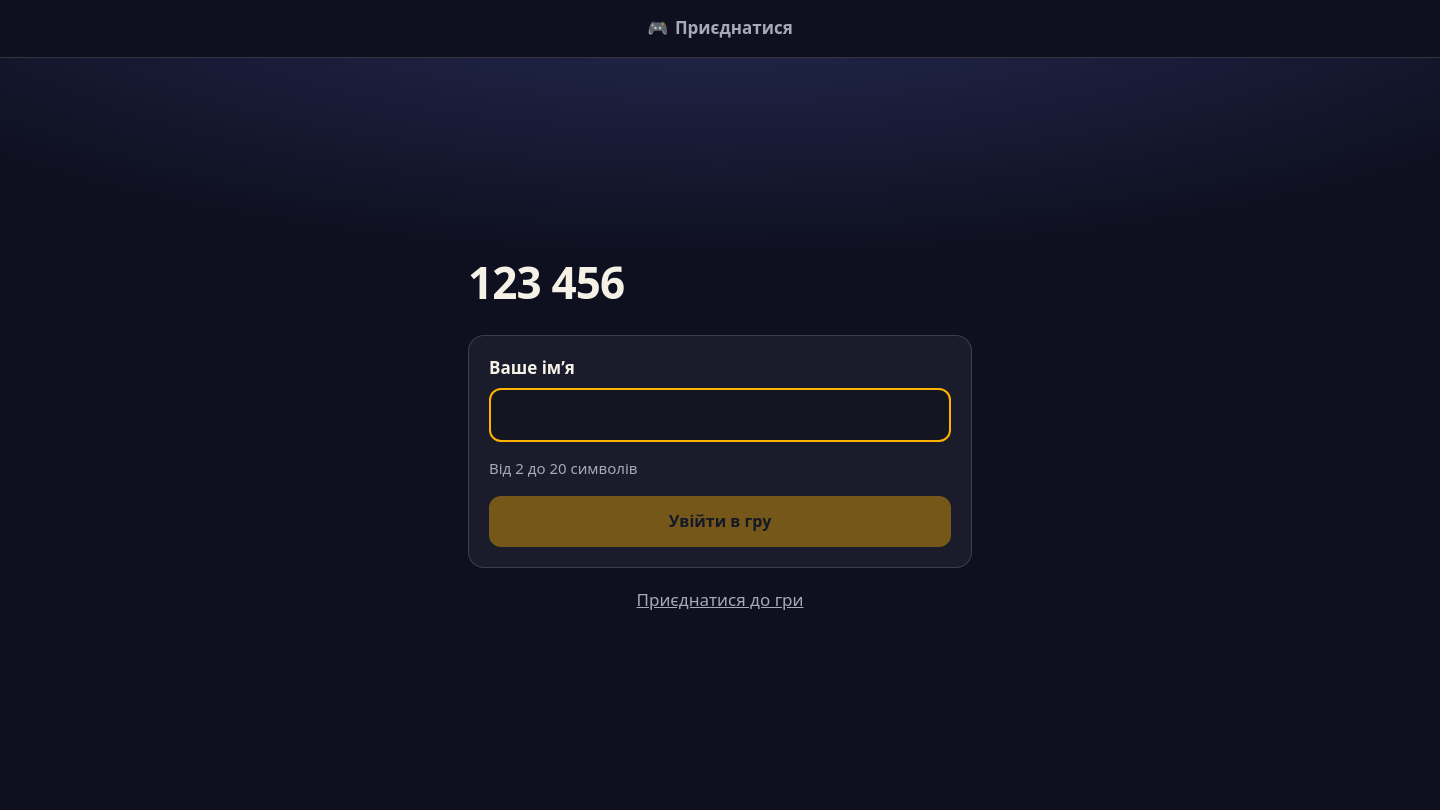
Test: Play › explains that a game which has started cannot be joined
Type "Олена" into the field labelled "Ваше ім’я" at x=720, y=415, box [489,388,951,442]
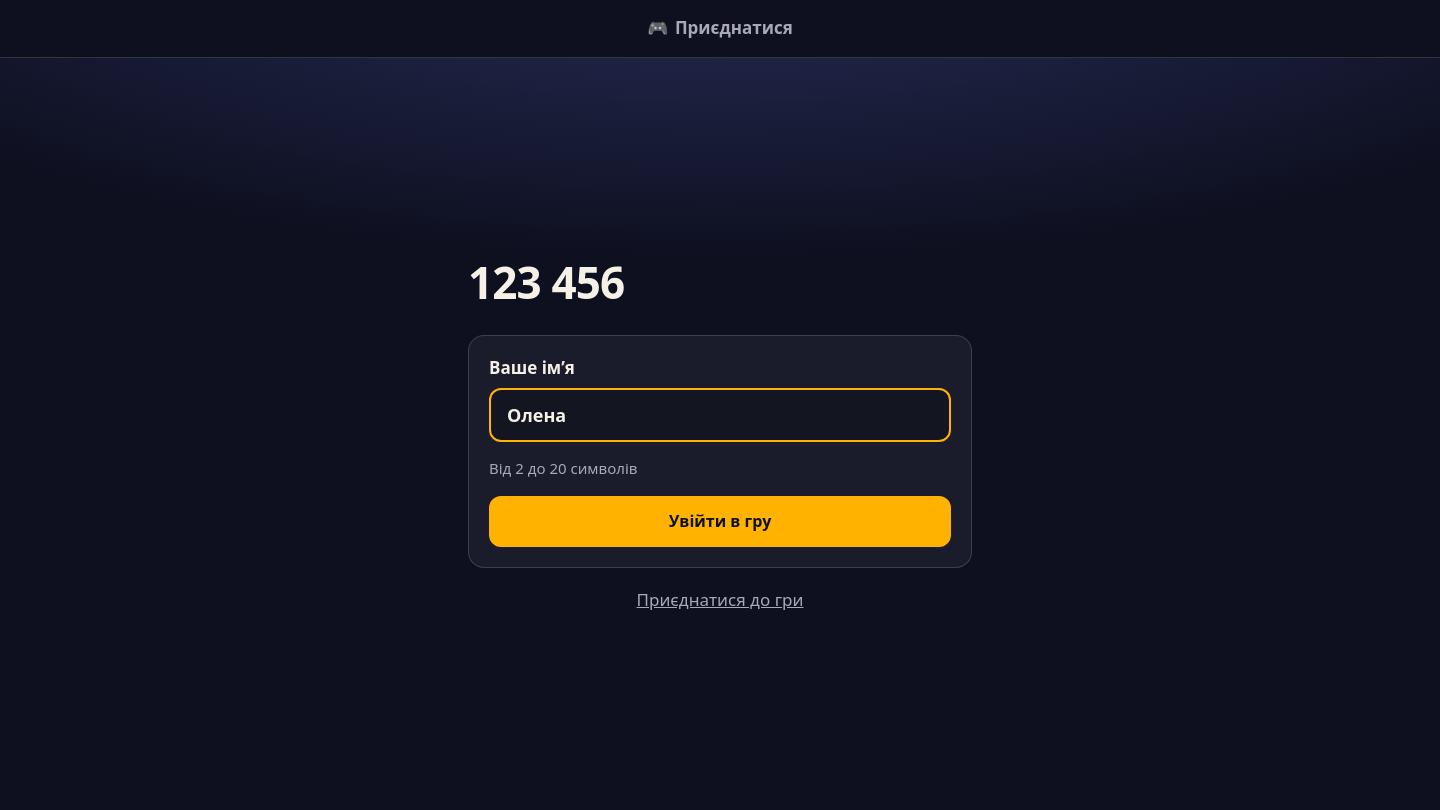
Click the button "Увійти в гру" at x=720, y=522, box [489,496,951,547]
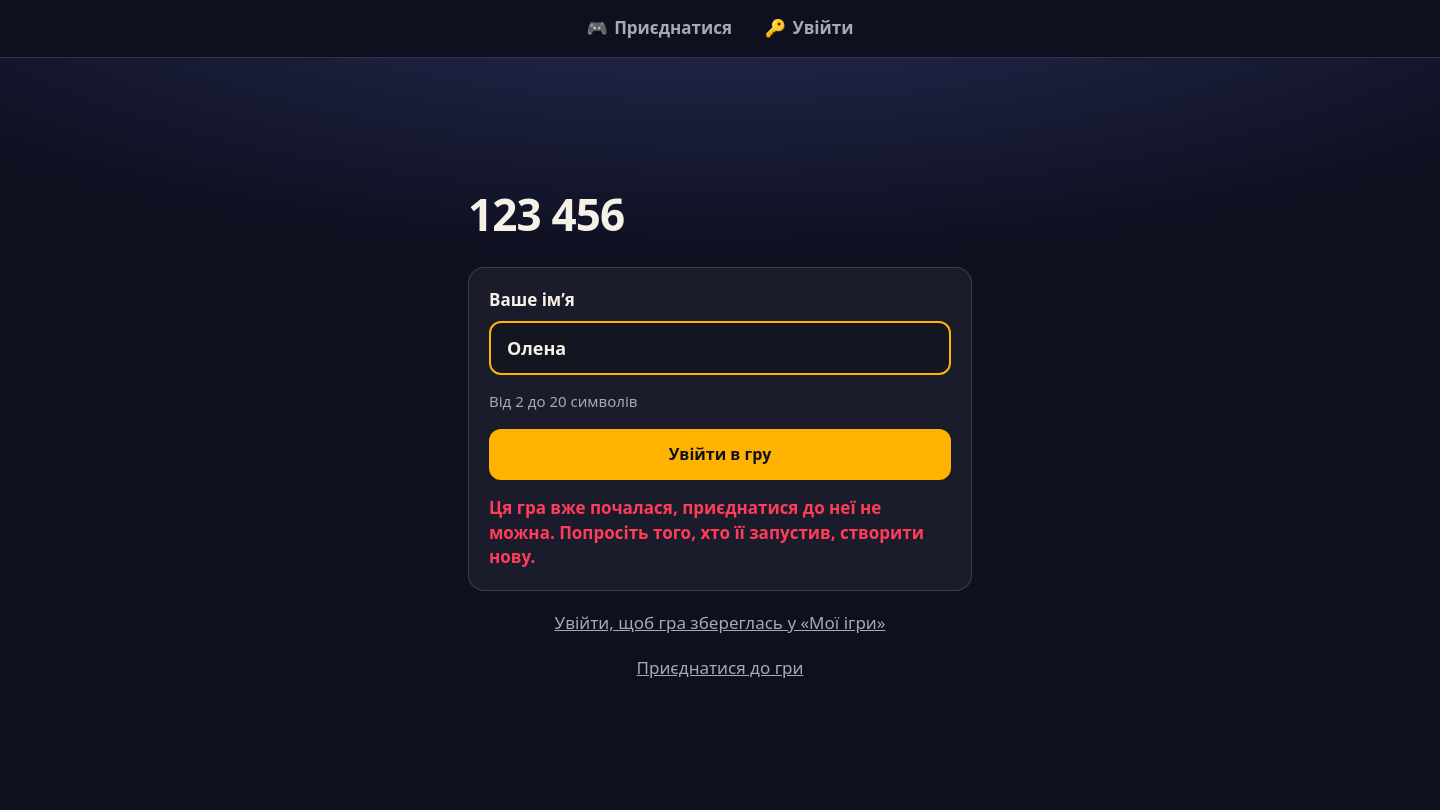
Result: the message shows "Ця гра вже почалася, приєднатися до неї не можна. Попросіть того, хто її запустив, створити нову." at [489,496,924,568]
